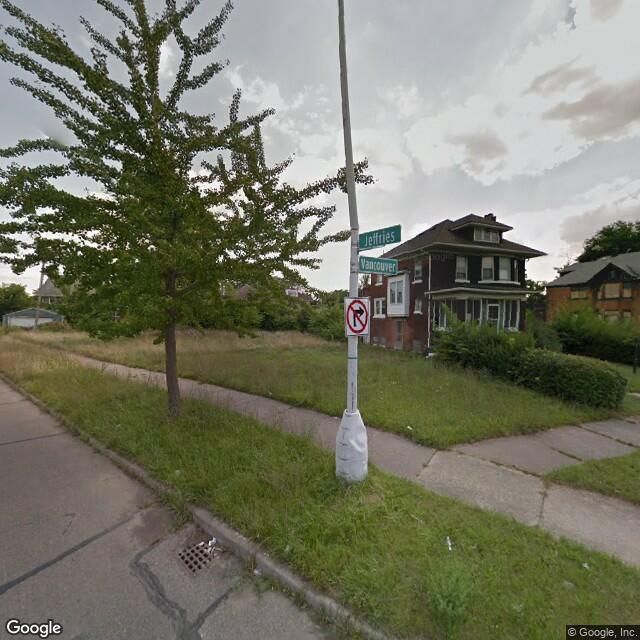litter: (190, 530, 225, 560), (440, 532, 457, 556), (247, 560, 266, 578), (403, 419, 417, 436)
